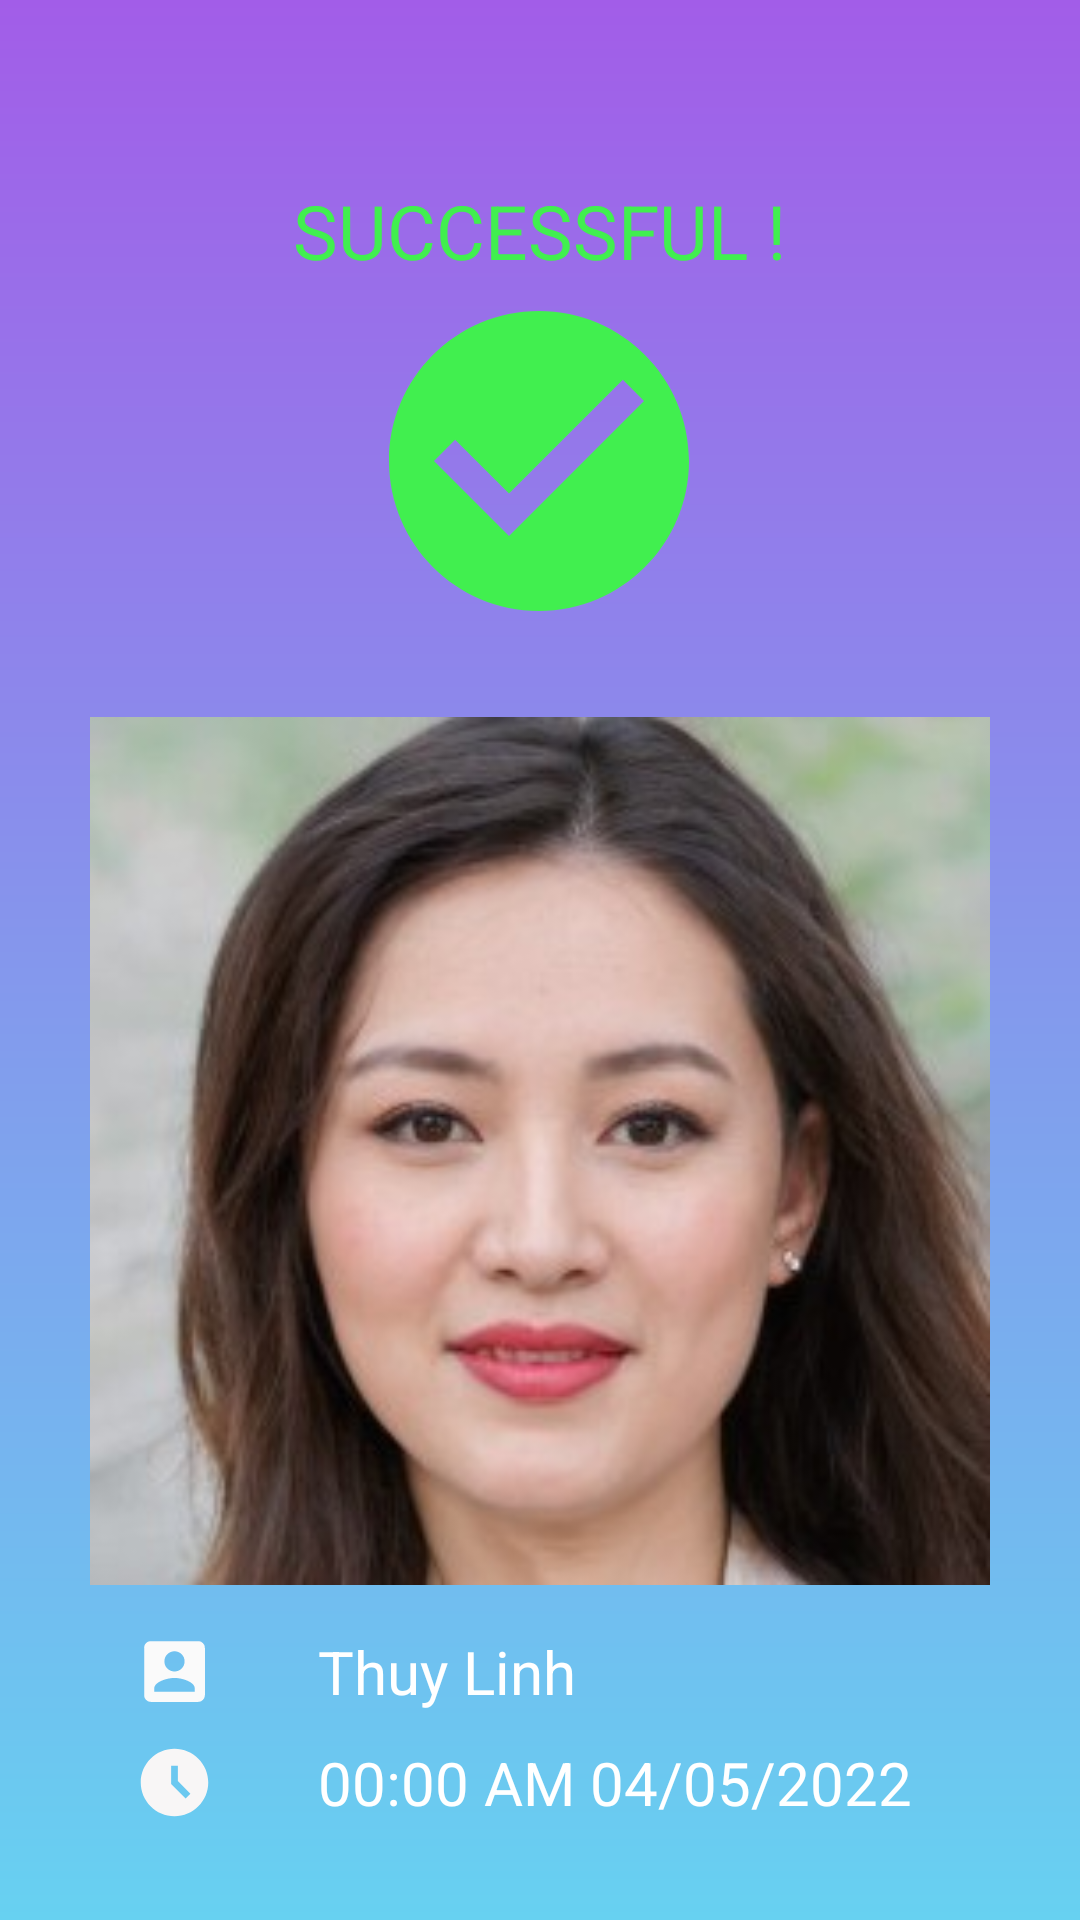

Icon bounding boxes for this 1080x1920 phone screenshot, format (x1, y1, x2, y2):
access time: (140, 1748, 209, 1817)
account box: (144, 1641, 205, 1702)
check circle: (389, 311, 689, 611)
